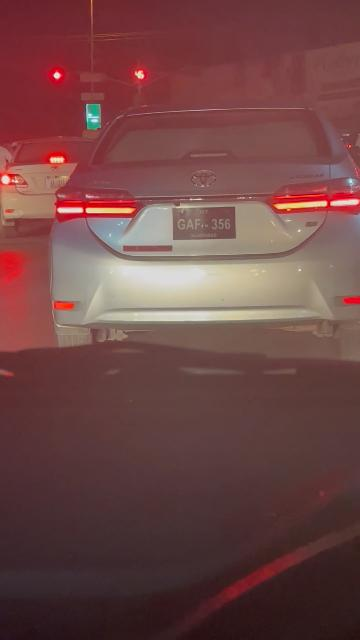plate: (175, 205, 238, 239)
